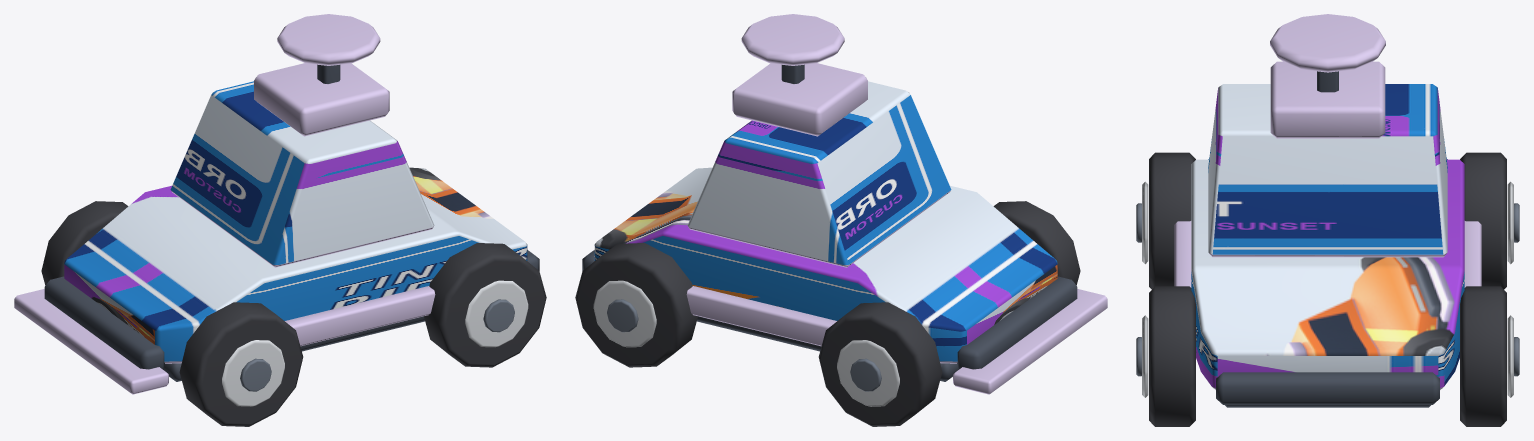
3 views of the same model, side by side, from view 1: azimuth 30°, elevation 25°; view 2: azimuth 150°, elevation 25°; view 3: azimuth 270°, elevation 25° (orthographic). The views are drawn at different scales.
Visible parts, largest first — view 1: FF-02_connected_shell, FF-02_cabin, Tire, Tire.002, custom equipment, custom chin, sensor dish, custom side guard, front bumper, Tire.001, Rim, Rim.002 (+3 smaller); view 2: FF-02_connected_shell, FF-02_cabin, Tire.001, Tire.003, custom equipment, custom chin, sensor dish, custom side guard.001, front bumper, Tire, Rim.001, Rim.003 (+3 smaller); view 3: FF-02_connected_shell, FF-02_cabin, custom equipment, rear bumper, Tire.002, Tire.003, sensor dish, Tire, Tire.001, custom side guard, custom side guard.001, underbody (+5 smaller).
Part boxes in pixels (bbox=[...]): FF-02_connected_shell: bbox=[64, 167, 527, 363]; FF-02_cabin: bbox=[170, 81, 434, 267]; Tire: bbox=[179, 302, 303, 426]; Tire.002: bbox=[424, 243, 546, 367]; custom equipment: bbox=[254, 63, 389, 136]; custom chin: bbox=[14, 289, 168, 394]; sensor dish: bbox=[277, 14, 380, 65]; custom side guard: bbox=[285, 286, 435, 346]; front bumper: bbox=[44, 276, 164, 369]; Tire.001: bbox=[41, 201, 128, 285]; Rim: bbox=[222, 340, 284, 406]; Rim.002: bbox=[465, 280, 528, 347]; FF-02_connected_shell: bbox=[594, 167, 1057, 363]; FF-02_cabin: bbox=[687, 81, 951, 267]; Tire.001: bbox=[818, 302, 942, 426]; Tire.003: bbox=[575, 243, 697, 367]; custom equipment: bbox=[732, 63, 867, 136]; custom chin: bbox=[953, 289, 1107, 394]; sensor dish: bbox=[741, 14, 844, 65]; custom side guard.001: bbox=[686, 286, 836, 346]; front bumper: bbox=[957, 276, 1077, 369]; Tire: bbox=[993, 201, 1080, 285]; Rim.001: bbox=[837, 340, 899, 406]; Rim.003: bbox=[593, 280, 656, 347]; FF-02_connected_shell: bbox=[1191, 159, 1464, 389]; FF-02_cabin: bbox=[1208, 84, 1447, 257]; custom equipment: bbox=[1270, 61, 1385, 138]; rear bumper: bbox=[1216, 372, 1439, 404]; Tire.002: bbox=[1149, 286, 1195, 426]; Tire.003: bbox=[1460, 286, 1506, 426]; sensor dish: bbox=[1270, 14, 1385, 72]; Tire: bbox=[1149, 152, 1195, 289]; Tire.001: bbox=[1460, 152, 1506, 289]; custom side guard: bbox=[1174, 221, 1191, 287]; custom side guard.001: bbox=[1464, 221, 1481, 287]; underbody: bbox=[1225, 405, 1430, 407].
Size of the model in its own units: 302 by 206 by 212.
